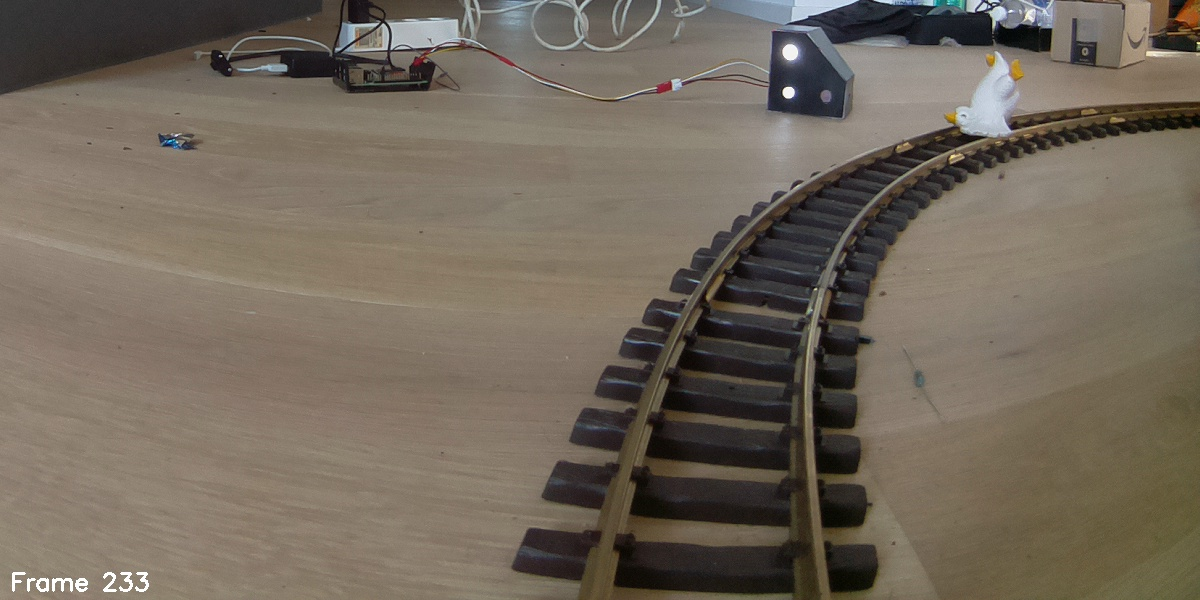Ente: (942, 51, 1028, 143)
Fahrt: (769, 24, 853, 122)
